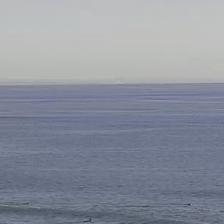surfer: (20, 202, 30, 206), (185, 202, 192, 206), (84, 219, 92, 222), (143, 205, 150, 207)
